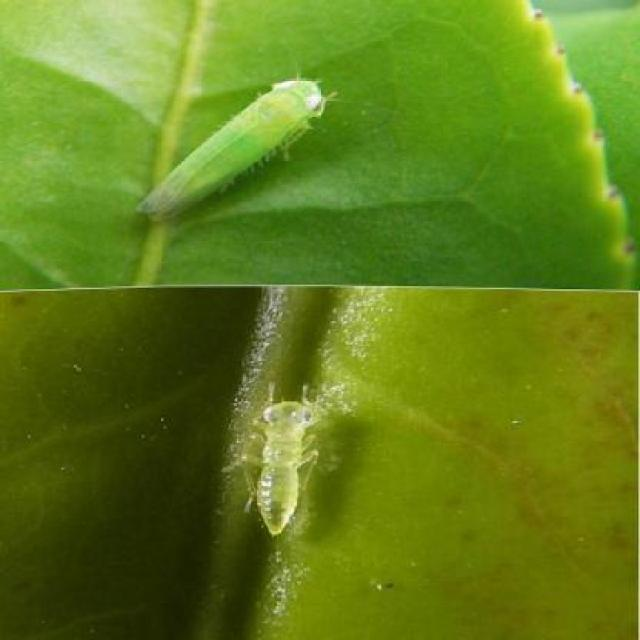green-leafhopper: (128, 72, 337, 222), (223, 387, 360, 535)
